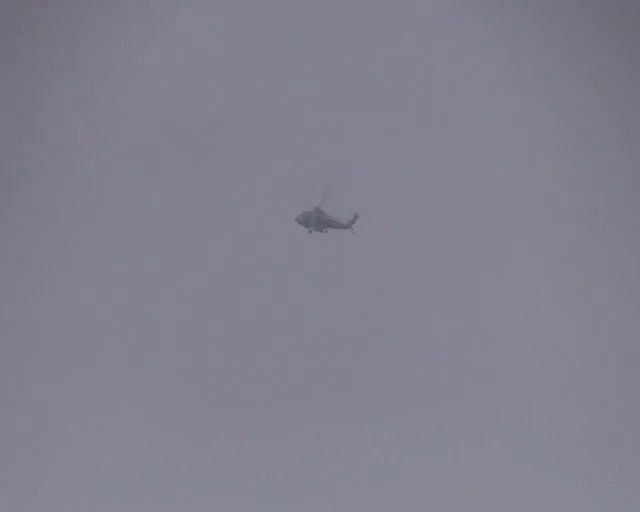HELICOPTER: (294, 184, 359, 234)
